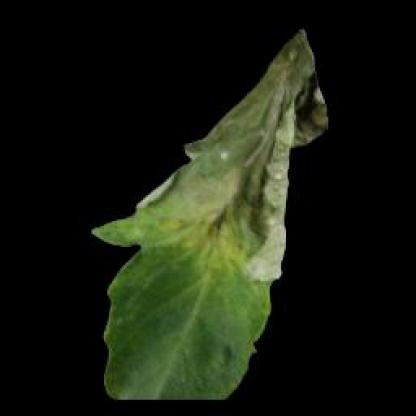bad leaf: (82, 16, 367, 383)
